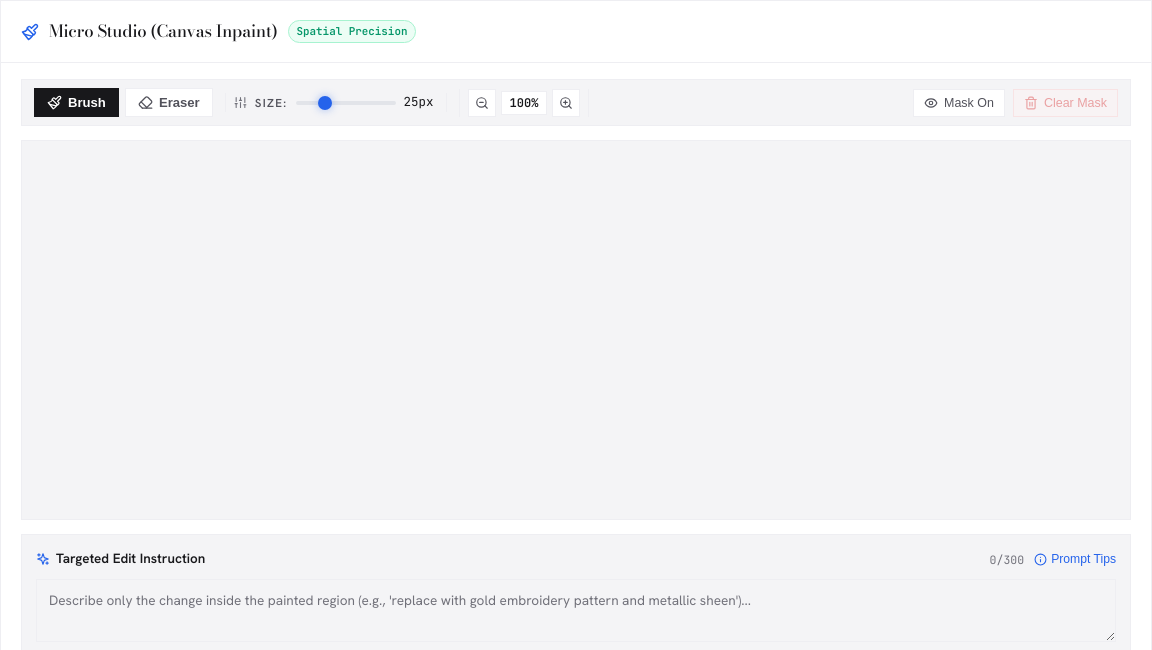
Test: CanvasStudio Component › allows typing prompt and toggling tips callout
Replace the text in the text box with placeholder "Describe only the change inside the painted region" with "make the coat dark green leather". click: (576, 611)
box: [36, 579, 1116, 642]
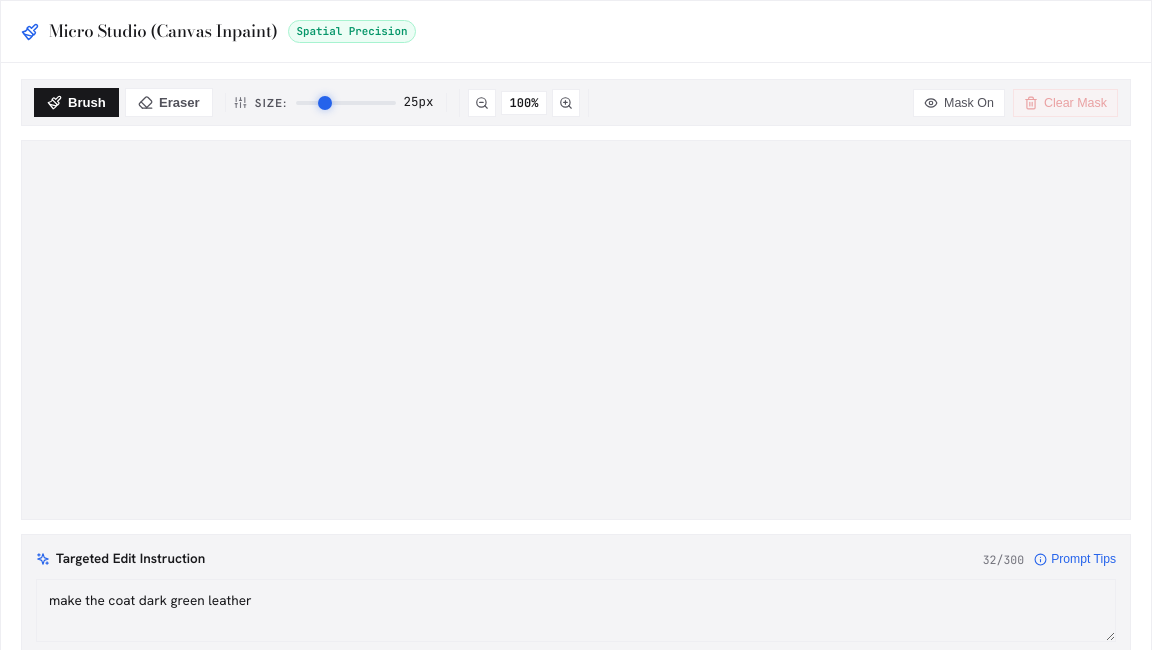
Toggle prompt tips
Click the button "Prompt Tips". click: (1075, 559)
box: [1034, 552, 1116, 566]
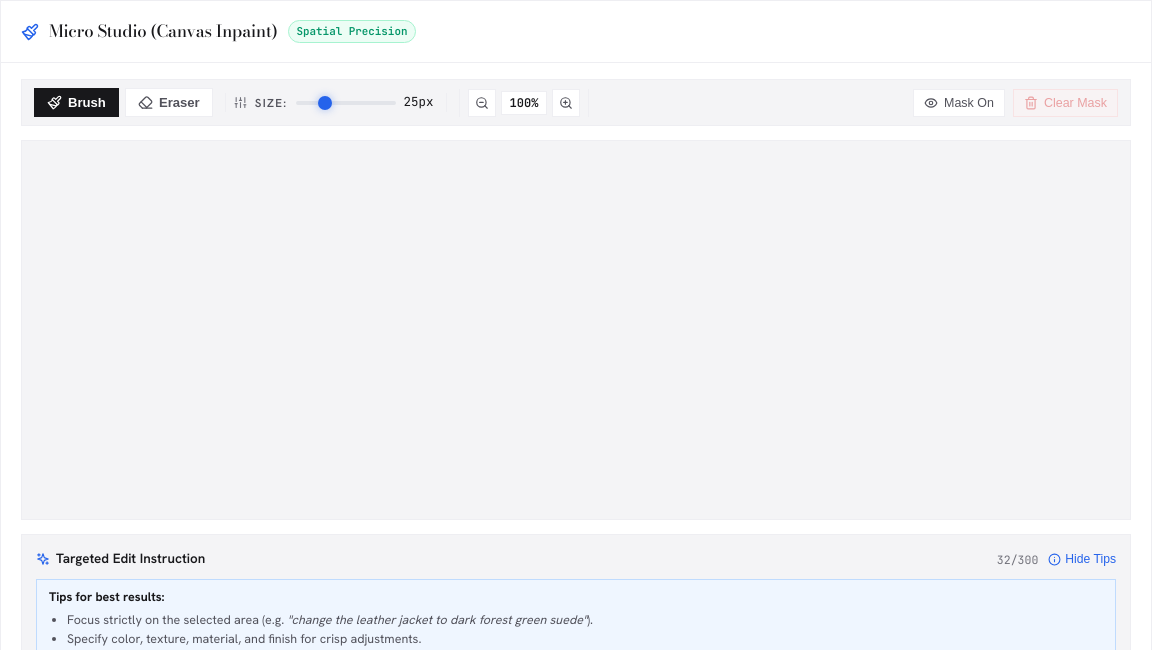
expect the text "Tips for best results:" is shown: met, box [49, 589, 165, 605]
